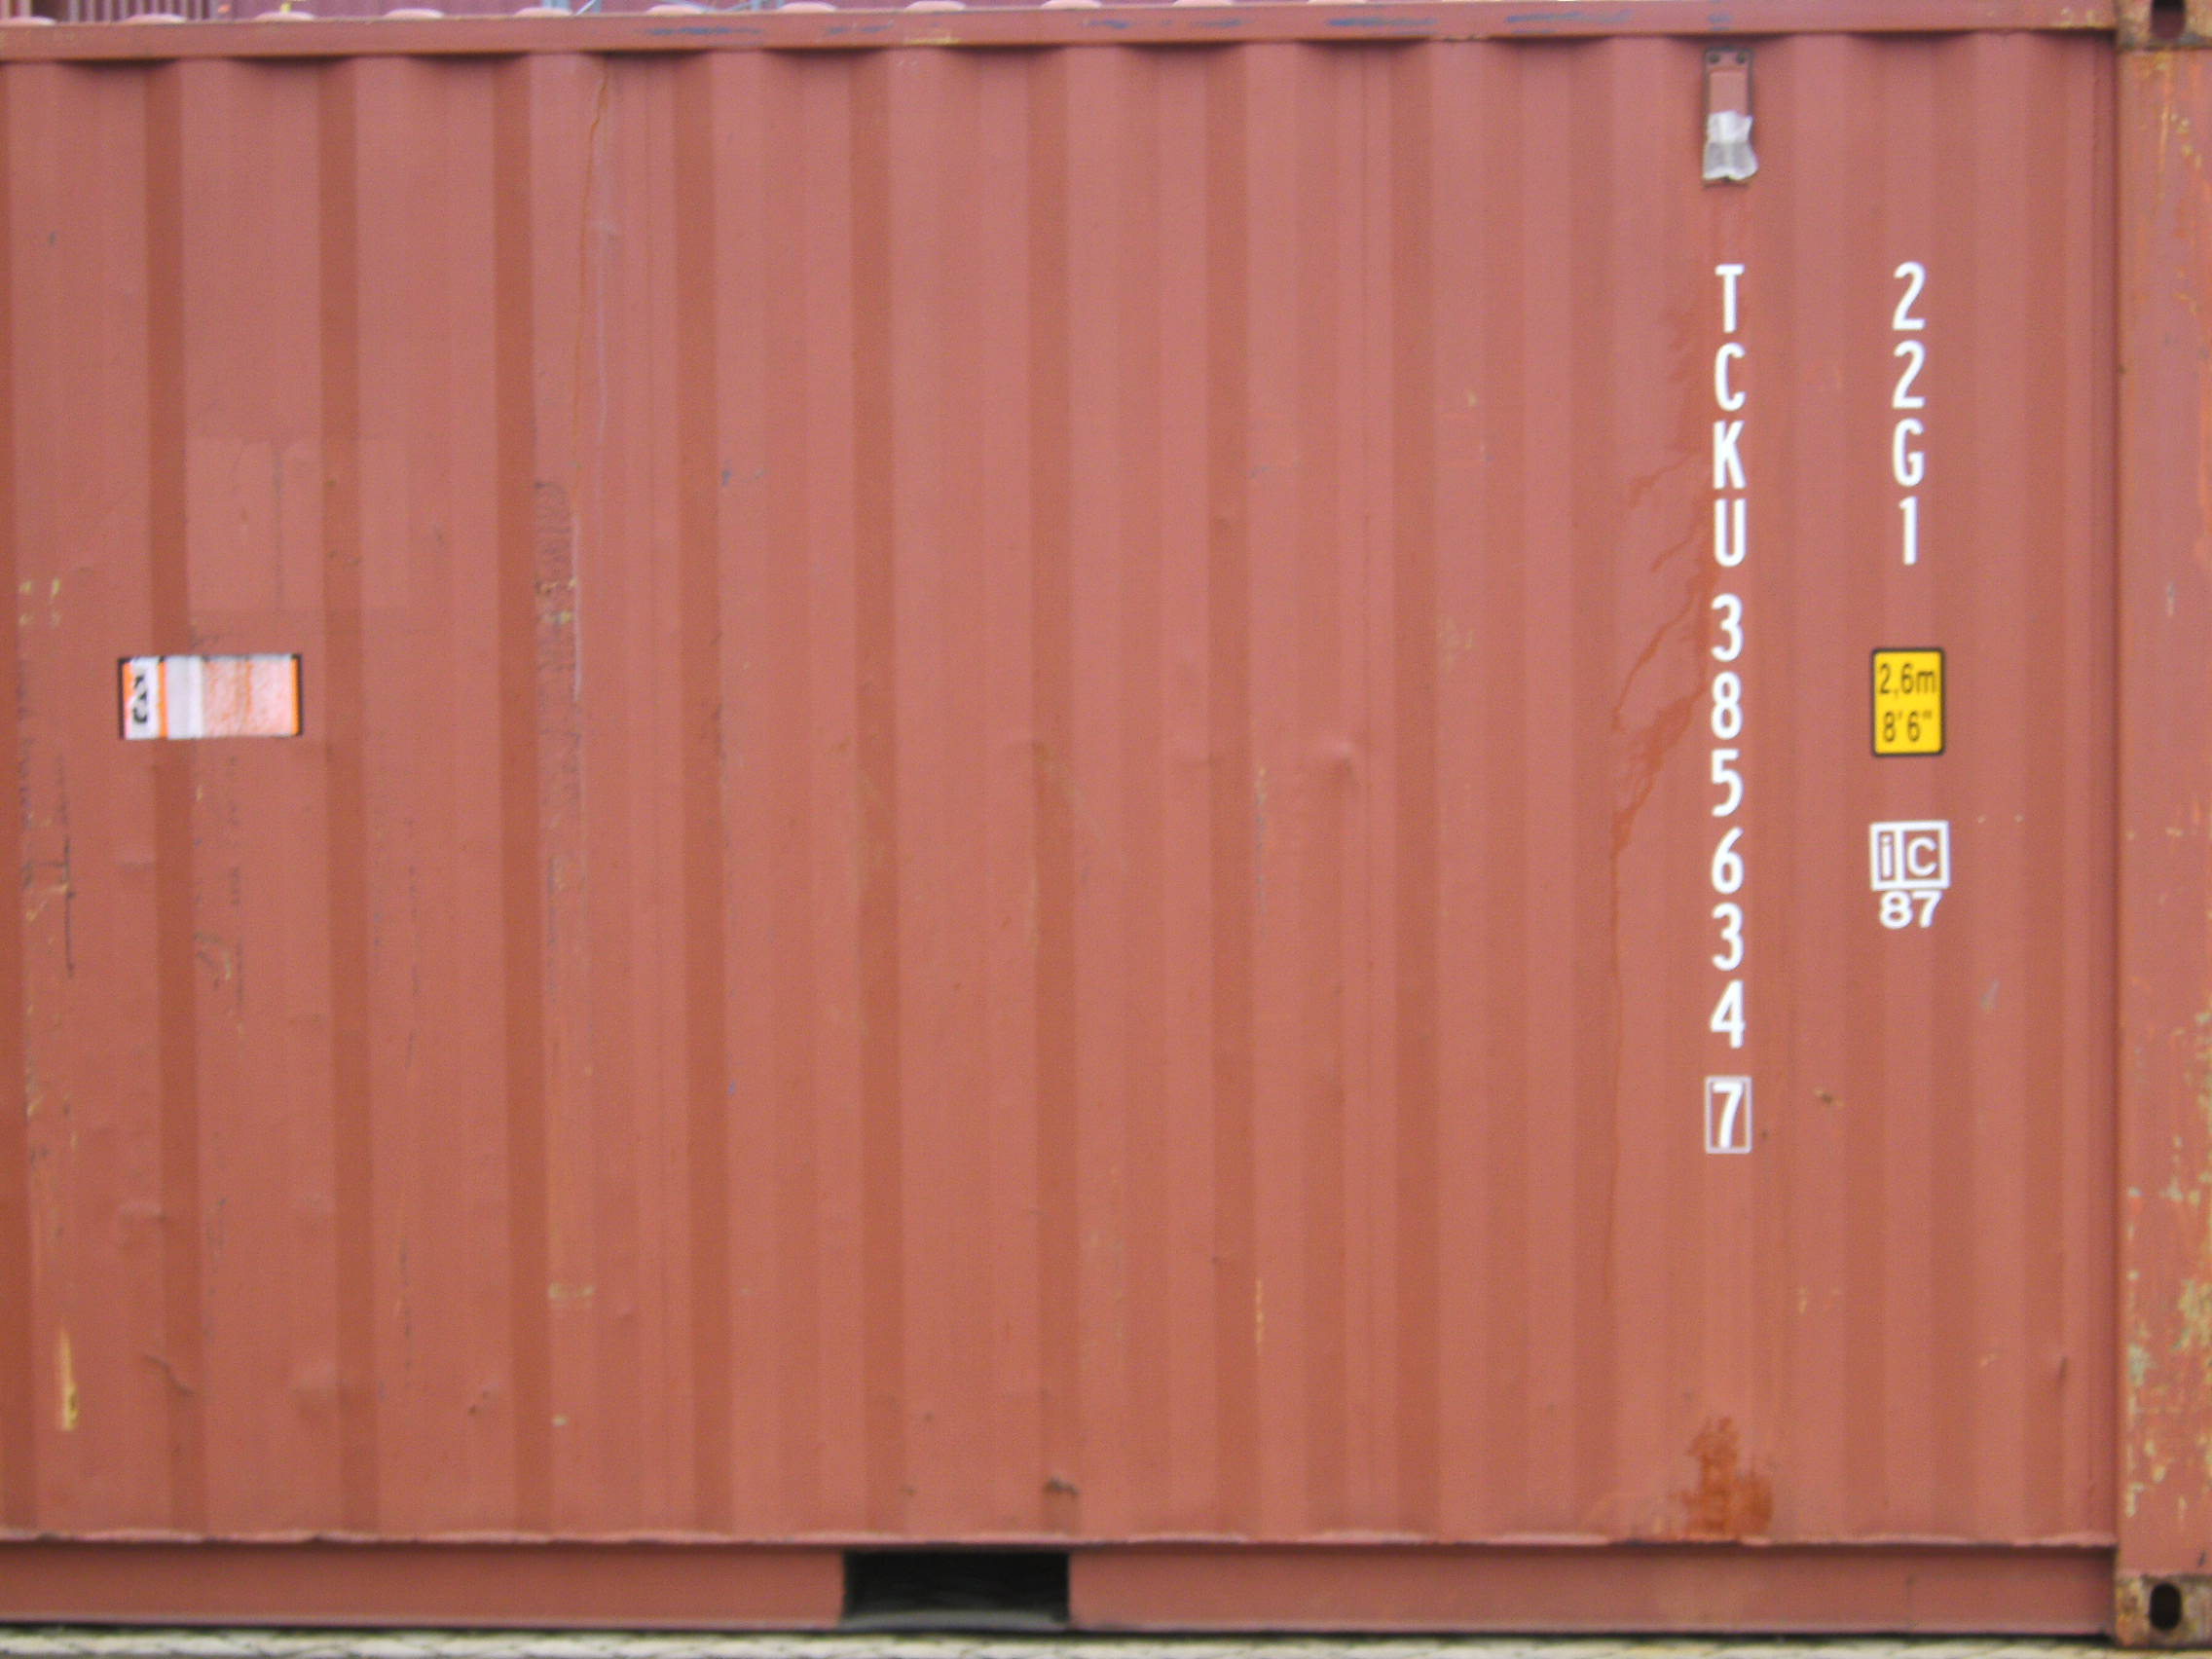container_no_door: (28, 2, 2116, 1610)
